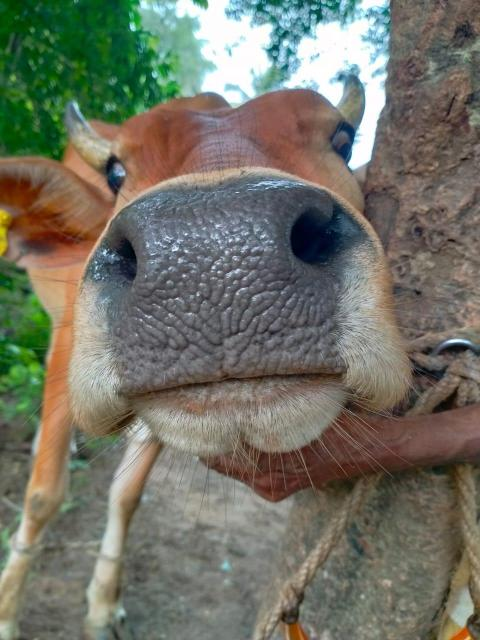Muzzle: (116, 210, 306, 370)
